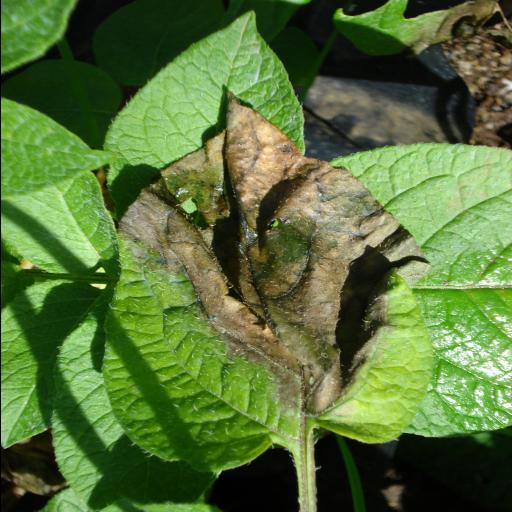Late Blight: (102, 86, 434, 476)
